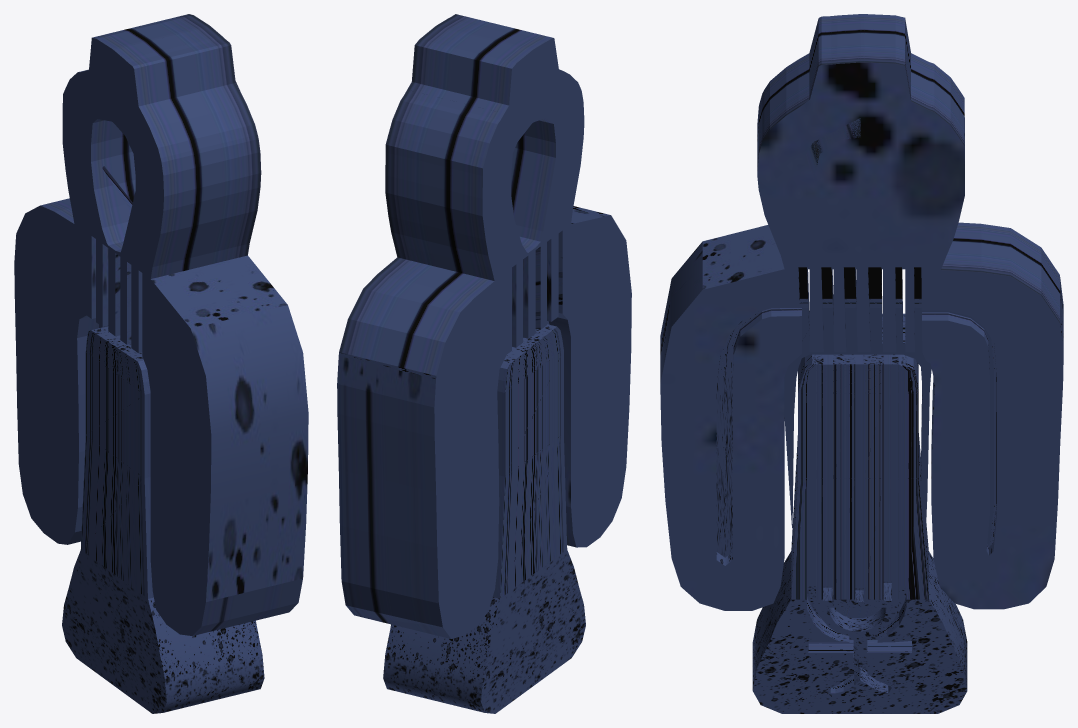
The model's file is Statue.fbx.
3 views of the same model, side by side, from view 1: azimuth 30°, elevation 25°; view 2: azimuth 150°, elevation 25°; view 3: azimuth 270°, elevation 25° (orthographic). The views are drawn at different scales.
Visible parts, largest first — view 1: Box003, Box001; view 2: Box003, Box001; view 3: Box003, Box001, Box004.
Part boxes in pixels (x1,y1,x2,y2): Box003: (14, 14, 308, 635); Box001: (62, 326, 264, 713); Box003: (337, 14, 631, 638); Box001: (383, 324, 585, 713); Box003: (660, 14, 1063, 610); Box001: (752, 354, 967, 713); Box004: (716, 267, 996, 557).
Bounding box in the file's own units: 1.72 × 10.65 × 5.98.
